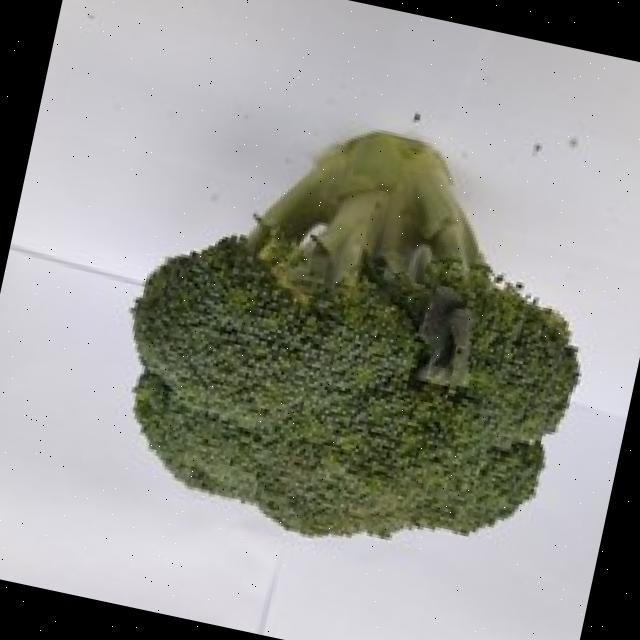Broccoli: (132, 237, 576, 536), (132, 241, 576, 536)
